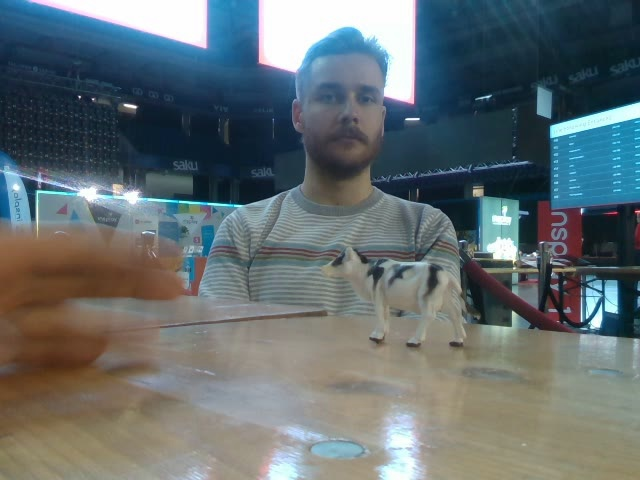toy: (322, 248, 478, 348)
